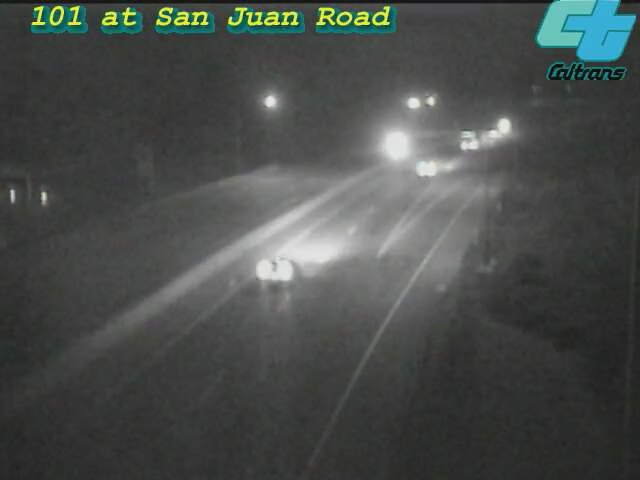vehicle: (389, 127, 469, 207), (244, 228, 324, 308), (368, 120, 418, 170), (474, 101, 524, 151), (468, 109, 518, 159), (450, 116, 500, 166)
